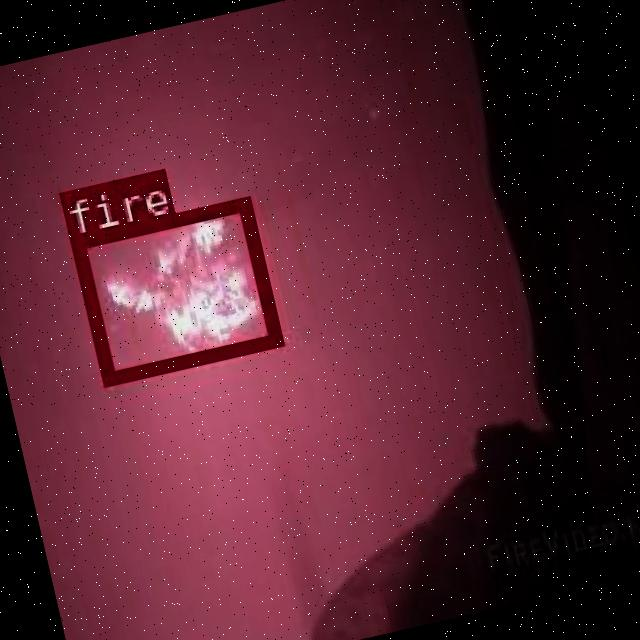fire: (67, 195, 279, 382)
